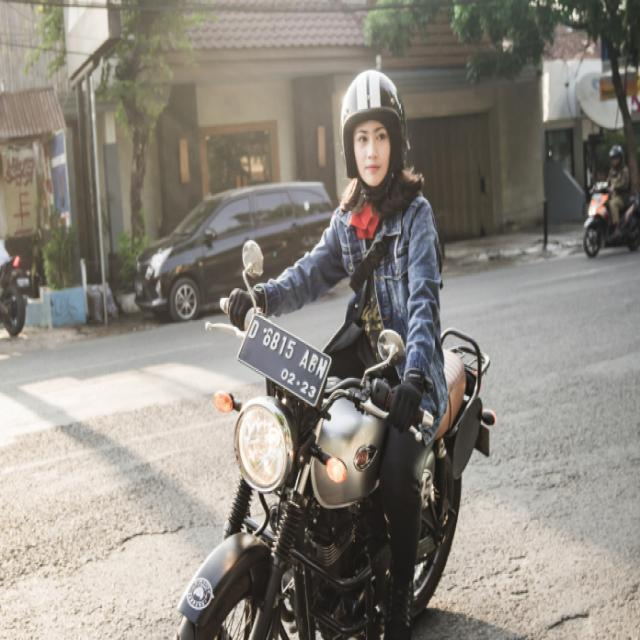Helmet: (341, 70, 407, 177), (609, 144, 623, 159)
Number Plate: (238, 315, 330, 405), (16, 276, 29, 288), (134, 278, 142, 295)
Rearview Mirror: (377, 329, 404, 363), (242, 240, 263, 276)
